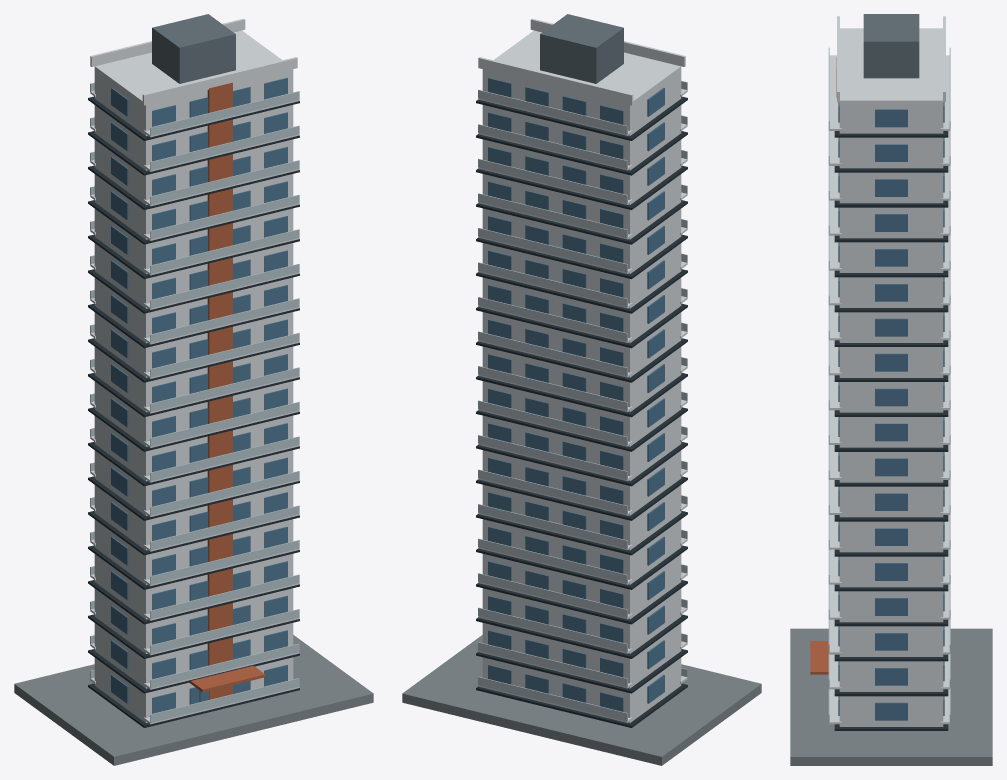
Rendered from project-hub-apartment-tower.glb.
3 views of the same model, side by side, from view 1: azimuth 30°, elevation 25°; view 2: azimuth 150°, elevation 25°; view 3: azimuth 270°, elevation 25° (orthographic).
Parts seen in each view (by area): view 1: 필로티 및 코어, 대지 기단, 중앙 수직 포인트, 옥상 기계실, 옥상 파라펫 전면, 5층 전면 난간, 4층 전면 난간, 6층 전면 난간, 12층 전면 난간, 13층 전면 난간, 2층 전면 난간, 15층 전면 난간 (+31 smaller); view 2: 필로티 및 코어, 대지 기단, 옥상 기계실, 옥상 파라펫 후면, 1층 후면 난간, 9층 후면 난간, 16층 후면 난간, 3층 후면 난간, 5층 후면 난간, 18층 후면 난간, 2층 후면 난간, 8층 후면 난간 (+29 smaller); view 3: 필로티 및 코어, 대지 기단, 옥상 기계실, 18층 전면 발코니, 출입구 캐노피, 1층 측면 창 동, 8층 측면 창 동, 9층 측면 창 동, 10층 측면 창 동, 11층 측면 창 동, 12층 측면 창 동, 18층 측면 창 동 (+30 smaller).
Boxes of the visible parts, <box> form: 필로티 및 코어: <box>94,30,293,722</box>; 대지 기단: <box>14,635,373,765</box>; 중앙 수직 포인트: <box>207,82,232,699</box>; 옥상 기계실: <box>152,14,235,83</box>; 옥상 파라펫 전면: <box>142,57,297,105</box>; 5층 전면 난간: <box>150,540,299,584</box>; 4층 전면 난간: <box>150,574,299,619</box>; 6층 전면 난간: <box>150,505,299,550</box>; 12층 전면 난간: <box>150,298,299,342</box>; 13층 전면 난간: <box>150,264,299,308</box>; 2층 전면 난간: <box>150,643,299,688</box>; 15층 전면 난간: <box>150,194,299,239</box>; 필로티 및 코어: <box>482,30,681,722</box>; 대지 기단: <box>402,635,761,765</box>; 옥상 기계실: <box>540,14,623,83</box>; 옥상 파라펫 후면: <box>478,57,633,105</box>; 1층 후면 난간: <box>478,676,627,721</box>; 9층 후면 난간: <box>478,400,627,445</box>; 16층 후면 난간: <box>478,158,627,203</box>; 3층 후면 난간: <box>478,607,627,652</box>; 5층 후면 난간: <box>478,538,627,583</box>; 18층 후면 난간: <box>478,89,627,134</box>; 2층 후면 난간: <box>478,642,627,686</box>; 8층 후면 난간: <box>478,435,627,479</box>; 필로티 및 코어: <box>839,28,943,726</box>; 대지 기단: <box>790,628,992,765</box>; 옥상 기계실: <box>863,14,919,78</box>; 18층 전면 발코니: <box>828,55,841,130</box>; 출입구 캐노피: <box>810,641,828,674</box>; 1층 측면 창 동: <box>875,702,907,720</box>; 8층 측면 창 동: <box>875,458,907,476</box>; 9층 측면 창 동: <box>875,423,907,441</box>; 10층 측면 창 동: <box>875,388,907,406</box>; 11층 측면 창 동: <box>875,353,907,371</box>; 12층 측면 창 동: <box>875,318,907,336</box>; 18층 측면 창 동: <box>875,109,907,127</box>.
Size of the model in its own units: 24 by 58.9 by 16.
